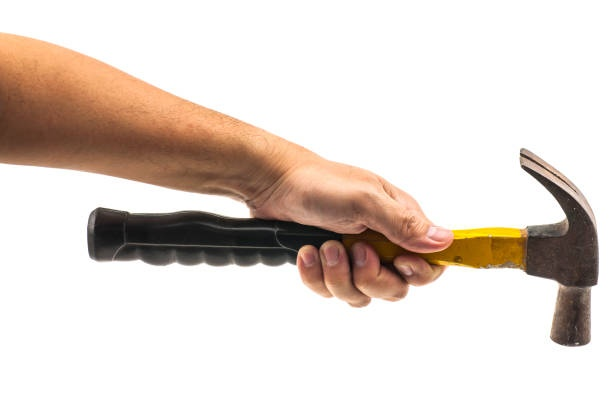hammer: (85, 146, 601, 349)
